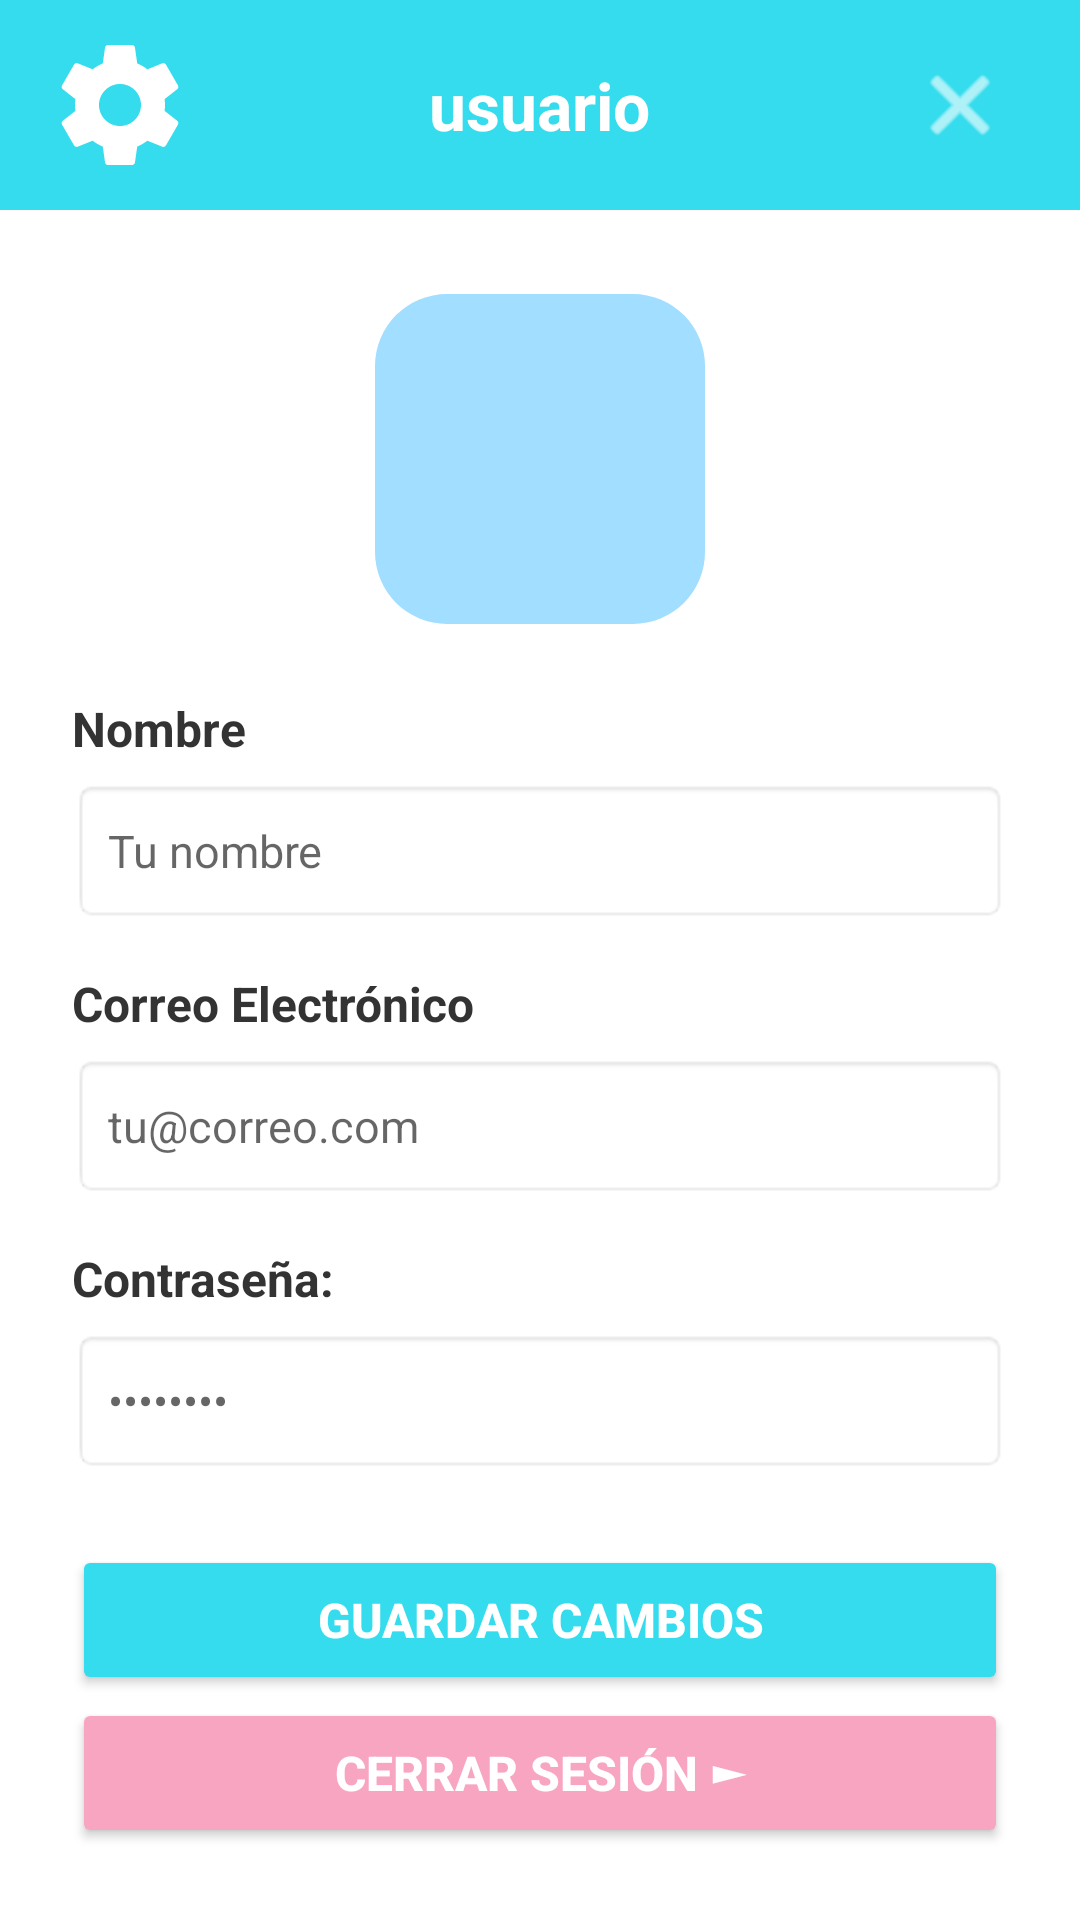

Icons on this 1080px×1920px Android screen, each with its box as (x1, y1, x2, y2):
Cerrar: (930, 75, 990, 135)
Configuración: (61, 45, 179, 165)
